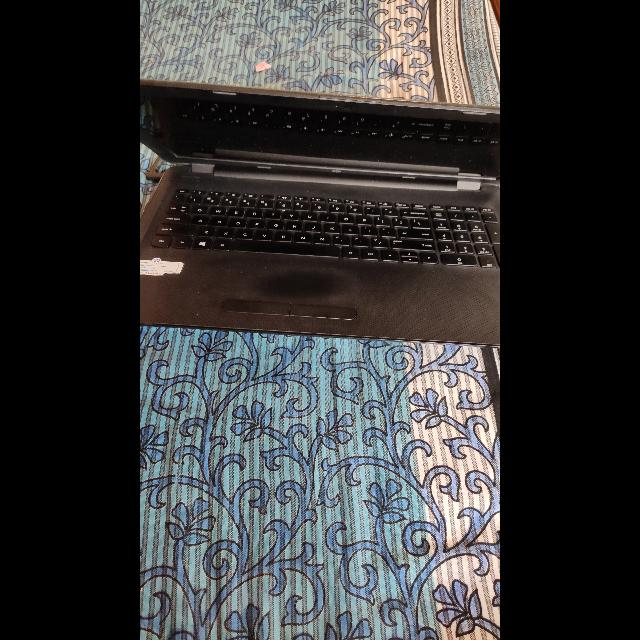Laptop: (179, 1, 341, 640)
